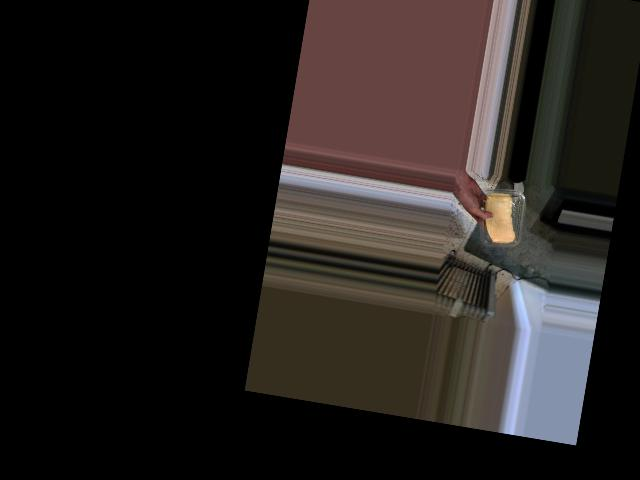cheese: (473, 185, 527, 253)
